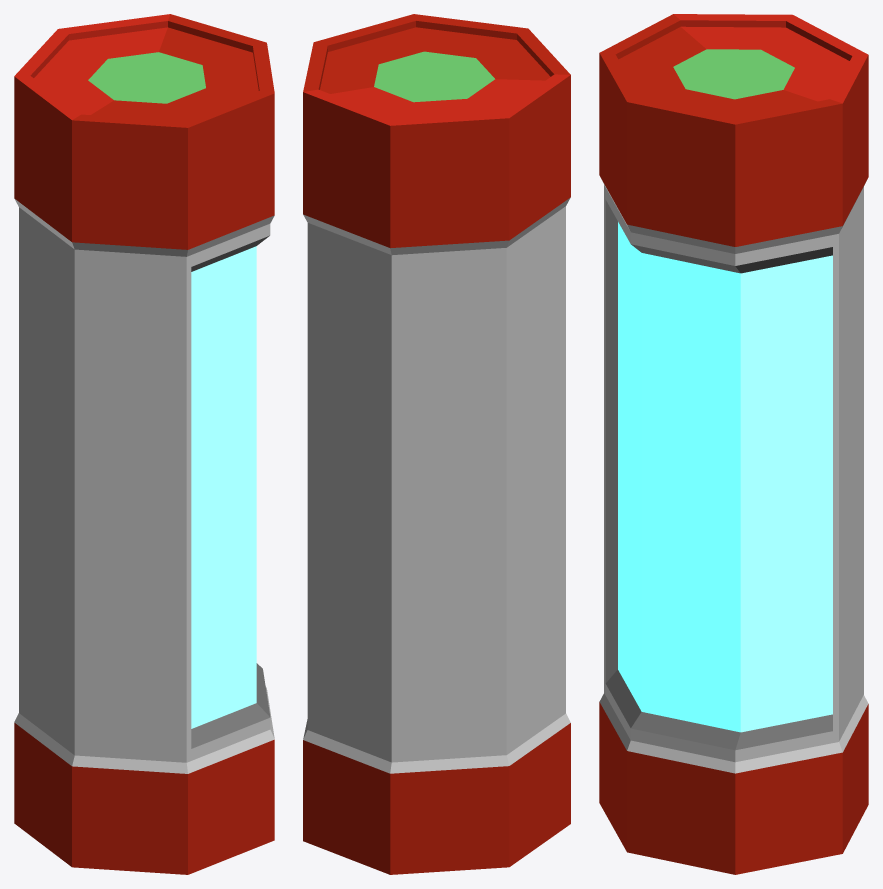
Rendered from Health.fbx.
3 views of the same model, side by side, from view 1: azimuth 30°, elevation 25°; view 2: azimuth 150°, elevation 25°; view 3: azimuth 270°, elevation 25° (orthographic).
Parts seen in each view (by area): view 1: Cylinder; view 2: Cylinder; view 3: Cylinder.
Boxes of the visible parts, left/top/right/bottom form: Cylinder: left=14, top=14, right=274, bottom=874; Cylinder: left=303, top=14, right=570, bottom=874; Cylinder: left=599, top=14, right=868, bottom=874.
Bounding box in the file's own units: 7.11 × 6.92 × 21.88.
